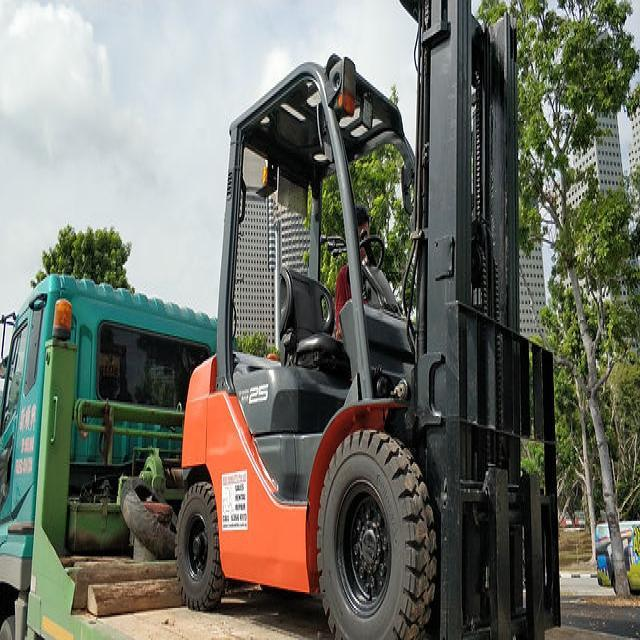forklift: (176, 11, 568, 640)
